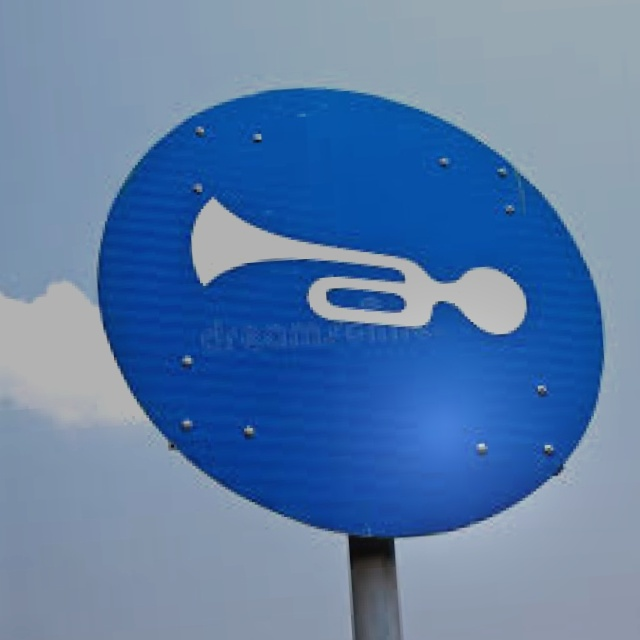Compulsory_Sound_Horn: (94, 68, 608, 543)
